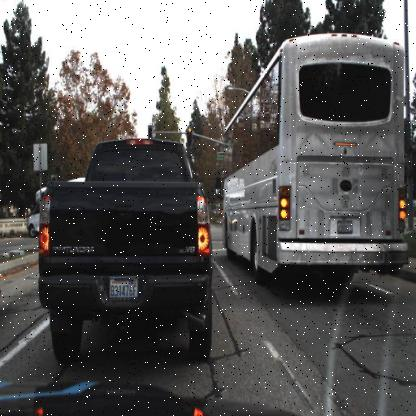car: (42, 140, 209, 351)
trafficLight: (148, 122, 153, 140)
trafficLight-Red: (186, 126, 193, 146)
truck: (222, 30, 406, 284), (26, 181, 40, 239)
